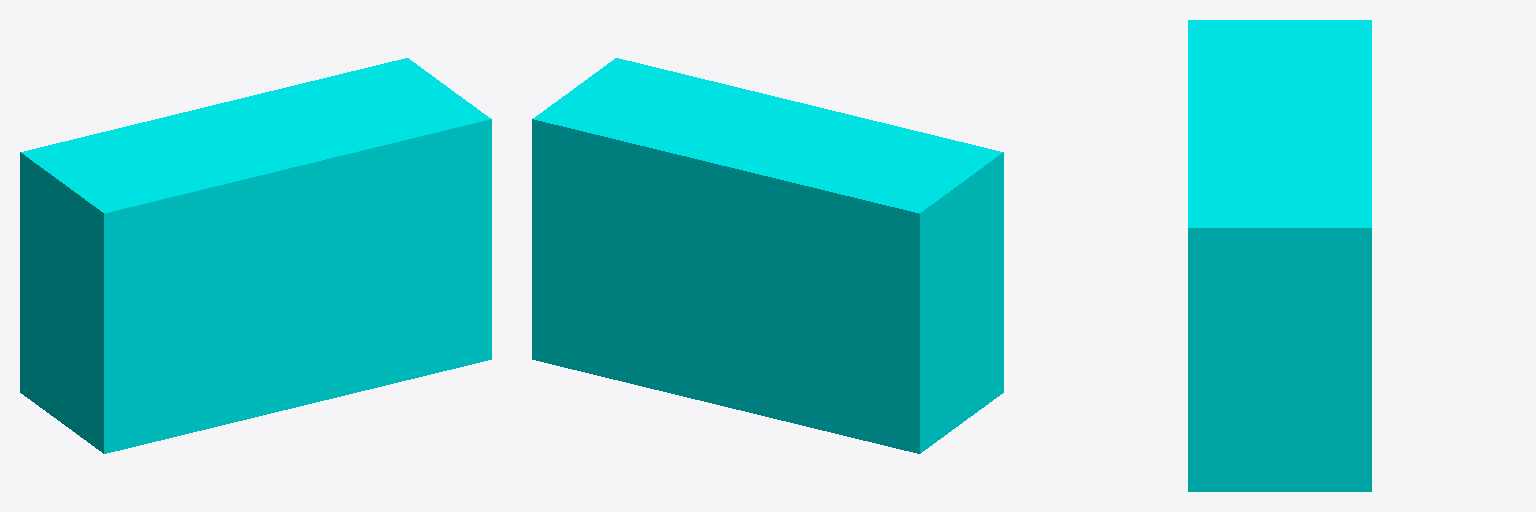
The robot description file, URDF, robot "box.urdf":
<?xml version="0.0" ?>
<robot name="box.urdf">
  <link name="baseLink">
    <contact>
      <lateral_friction value="0.5"/>
      <rolling_friction value="0.0"/>
      <contact_cfm value="0.0"/>
      <contact_erp value="1.0"/>
    </contact>
    <inertial>
      <origin rpy="0 0 0" xyz="0 0 0"/>
       <mass value=".01"/>
       <inertia ixx="1" ixy="0" ixz="0" iyy="1" iyz="0" izz="1"/>
    </inertial>
    <visual>
      <origin rpy="0 0 0" xyz="0 0 0"/>
      <geometry>
				<mesh filename="box.obj" scale="0.16 0.06 0.095"/>
      </geometry>
       <material name="white">
        <color rgba="0 1 1 1"/>
      </material>
    </visual>
    <collision>
      <origin rpy="0 0 0" xyz="0 0 0"/>
      <geometry>
	 	<box size="0.16 0.06 0.095"/>
      </geometry>
    </collision>
  </link>
</robot>

--- Render facts (derived) ---
Views: 3 orthographic renders of the robot side by side, from view 1: azimuth 30°, elevation 25°; view 2: azimuth 150°, elevation 25°; view 3: azimuth 270°, elevation 25°.
Model box.urdf with 1 links and 0 joints (none), rooted at baseLink, posed every joint at zero.
Links seen in each view (by area): view 1: baseLink; view 2: baseLink; view 3: baseLink.
Link boxes in pixels (x1,y1,x2,y2): baseLink: (20, 58, 491, 453); baseLink: (532, 58, 1003, 453); baseLink: (1188, 20, 1371, 491).
Bounding box of the posed robot: 0.16 × 0.06 × 0.095 m (x, y, z).
1 mesh visuals loaded from 1 distinct referenced files (1 OBJ).